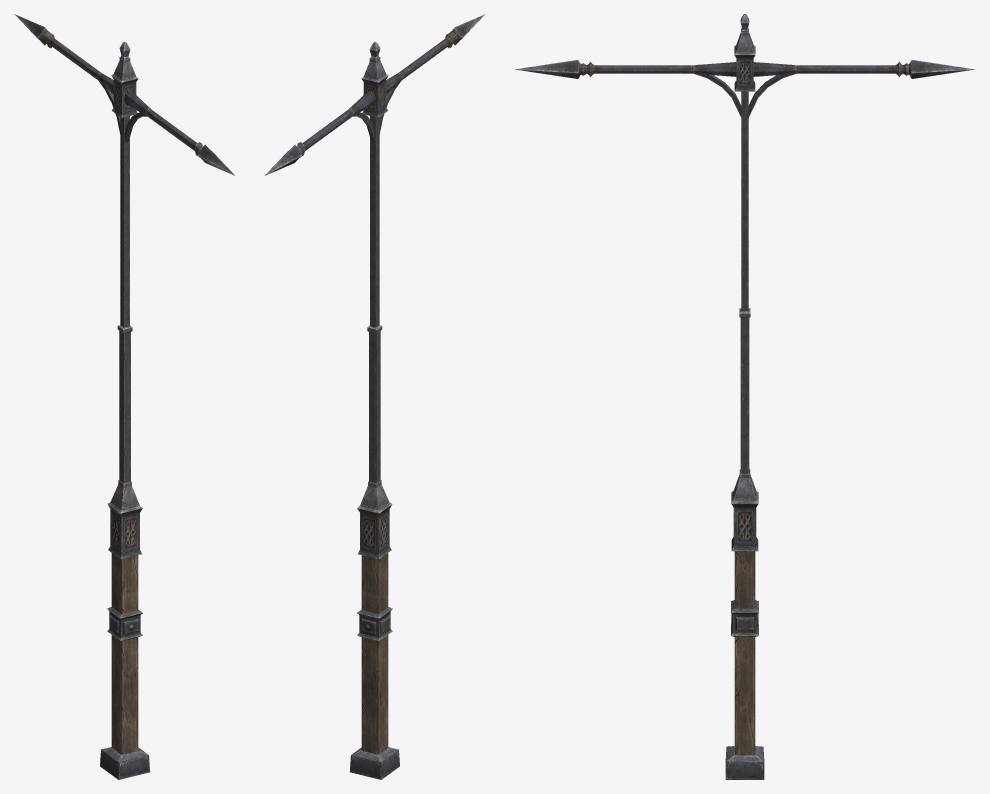
The model's file is bg_lut_lucastle_castleflag03a_sm_bjh.FBX.
3 views of the same model, side by side, from view 1: azimuth 30°, elevation 25°; view 2: azimuth 150°, elevation 25°; view 3: azimuth 270°, elevation 25° (orthographic). The views are drawn at different scales.
Visible parts, largest first — view 1: bg_lut_lucastle_castleflag03a_sm_bjh; view 2: bg_lut_lucastle_castleflag03a_sm_bjh; view 3: bg_lut_lucastle_castleflag03a_sm_bjh.
Boxes of the visible parts, <box> form: bg_lut_lucastle_castleflag03a_sm_bjh: <box>14,14,234,779</box>; bg_lut_lucastle_castleflag03a_sm_bjh: <box>265,14,485,779</box>; bg_lut_lucastle_castleflag03a_sm_bjh: <box>514,14,975,779</box>.
Bounding box in the file's own units: 17.74 × 390 × 215.
